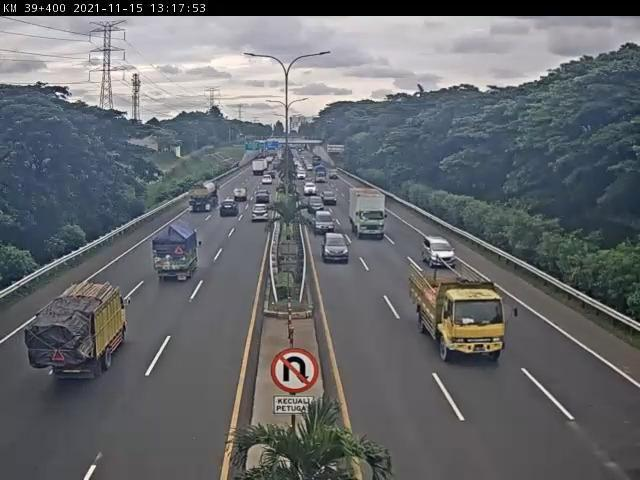car: (425, 235, 458, 268), (323, 232, 351, 262), (253, 203, 274, 225), (219, 199, 240, 220), (316, 214, 336, 233), (252, 188, 272, 206), (309, 197, 325, 213), (233, 188, 250, 203)
truck: (27, 281, 132, 382), (409, 268, 510, 356), (154, 222, 201, 284), (351, 190, 388, 237), (187, 179, 221, 216)
